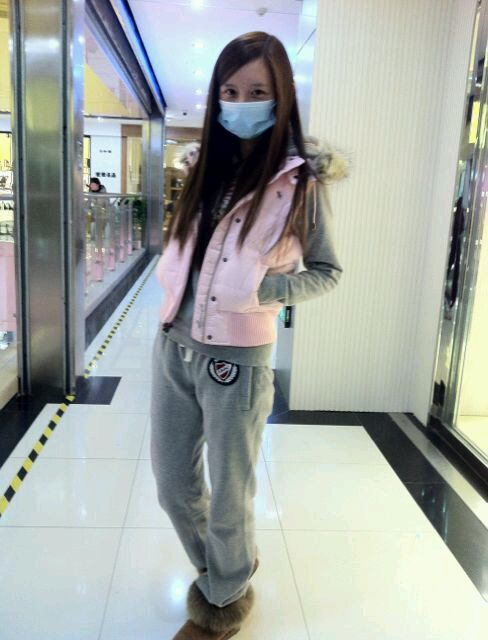face_mask: (219, 60, 275, 134)
